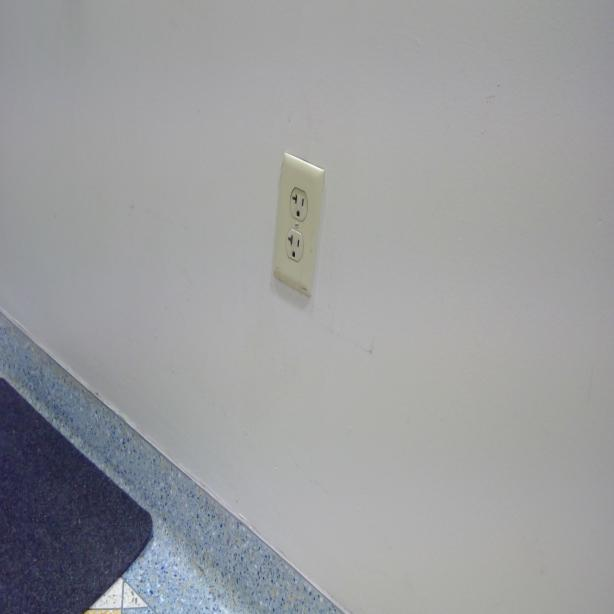typeb: (291, 188, 308, 219), (286, 229, 302, 259)
